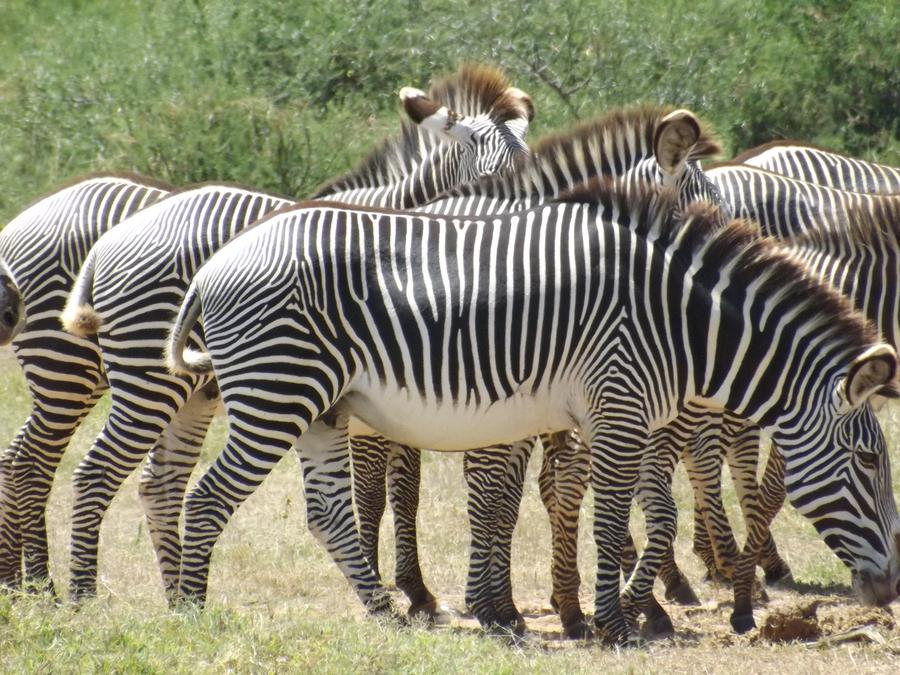zebra_grevys: (175, 190, 673, 431)
